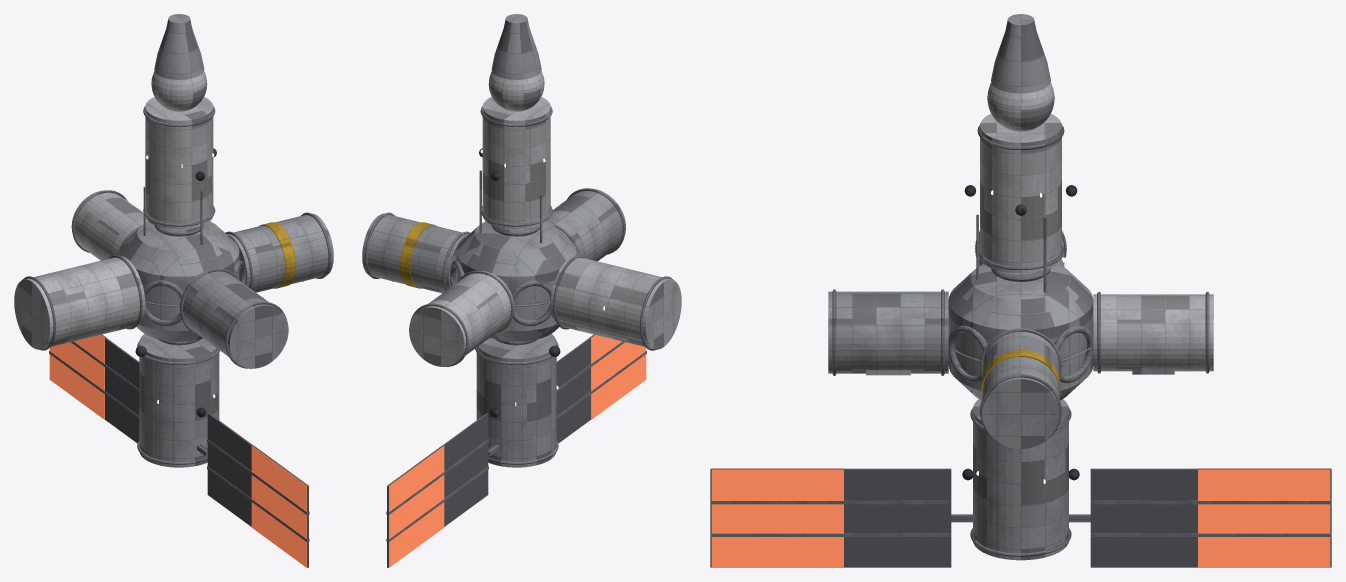
File: workers_modules_radial.glb
The picture shows the model from 3 angles, left to right: view 1: azimuth 30°, elevation 25°; view 2: azimuth 150°, elevation 25°; view 3: azimuth 270°, elevation 25°; orthographic projection. The views are drawn at different scales.
Parts seen in each view (by area): view 1: WorkersModulesRadial_Hull, WorkersModulesRadial_Radiators, WorkersModulesRadial_Ferry; view 2: WorkersModulesRadial_Hull, WorkersModulesRadial_Radiators, WorkersModulesRadial_Ferry; view 3: WorkersModulesRadial_Hull, WorkersModulesRadial_Radiators, WorkersModulesRadial_Ferry.
Part boxes in pixels (left/top/right/bottom): WorkersModulesRadial_Hull: left=14, top=97, right=333, bottom=467; WorkersModulesRadial_Radiators: left=49, top=334, right=309, bottom=567; WorkersModulesRadial_Ferry: left=151, top=14, right=207, bottom=111; WorkersModulesRadial_Hull: left=362, top=97, right=681, bottom=467; WorkersModulesRadial_Radiators: left=386, top=334, right=646, bottom=567; WorkersModulesRadial_Ferry: left=488, top=14, right=544, bottom=111; WorkersModulesRadial_Hull: left=828, top=114, right=1213, bottom=560; WorkersModulesRadial_Radiators: left=710, top=468, right=1331, bottom=567; WorkersModulesRadial_Ferry: left=987, top=14, right=1054, bottom=131.
Size of the model in its own units: 33 by 50.2 by 51.6.
14 materials, 6 textured.
